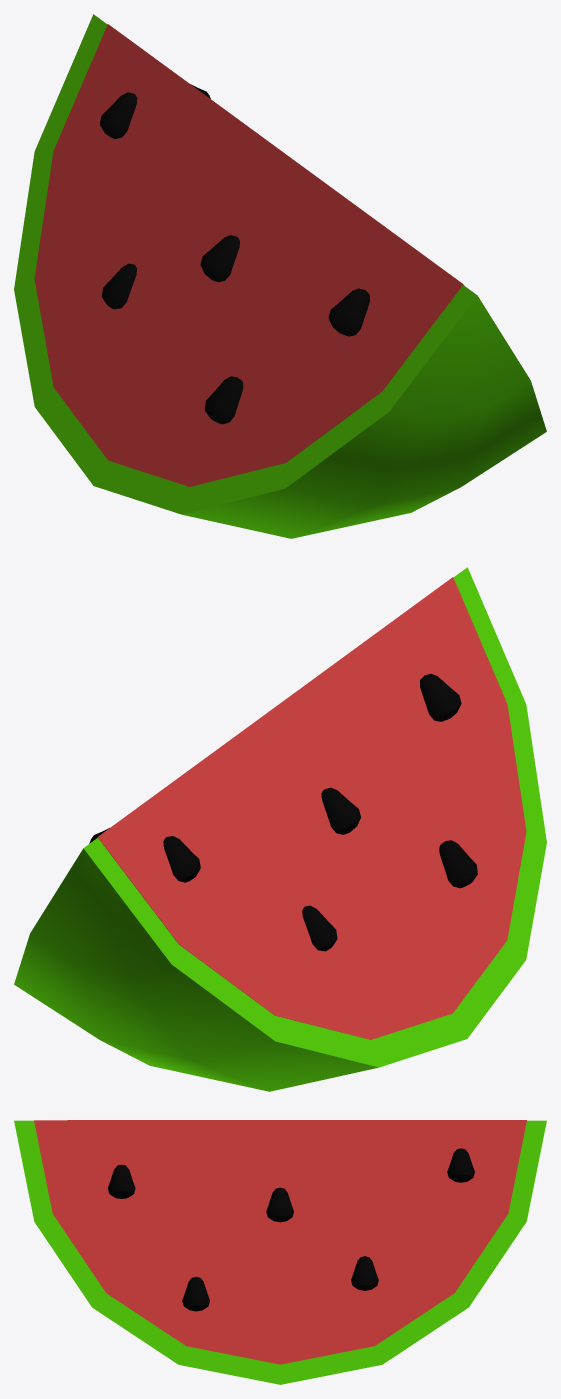
Rendered from watermelon.fbx.
3 renders of one model, top to bottom at view 1: azimuth 30°, elevation 25°; view 2: azimuth 150°, elevation 25°; view 3: azimuth 270°, elevation 25°, orthographic. The views are drawn at different scales.
Parts seen in each view (by area): view 1: Sphere_11; view 2: Sphere_11; view 3: Sphere_11.
Part boxes in pixels (bbox=[...]): Sphere_11: bbox=[14, 14, 546, 538]; Sphere_11: bbox=[14, 567, 546, 1091]; Sphere_11: bbox=[14, 1120, 546, 1384].
Size of the model in its own units: 120 by 107 by 216.
